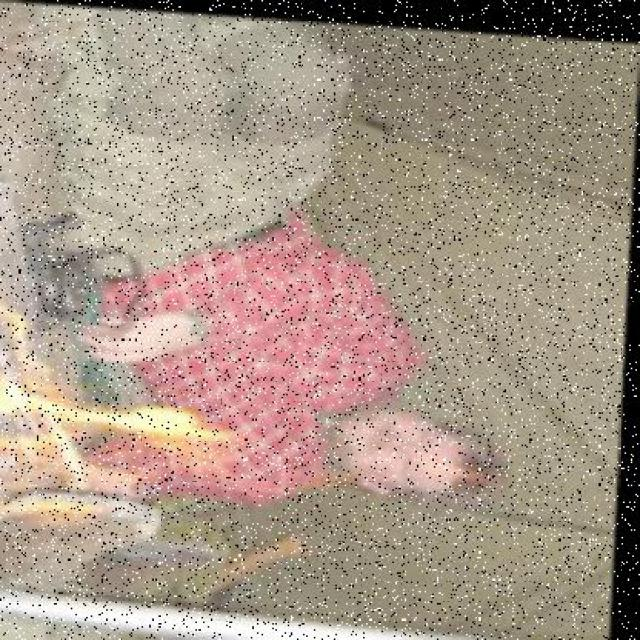fire: (1, 332, 232, 532)
